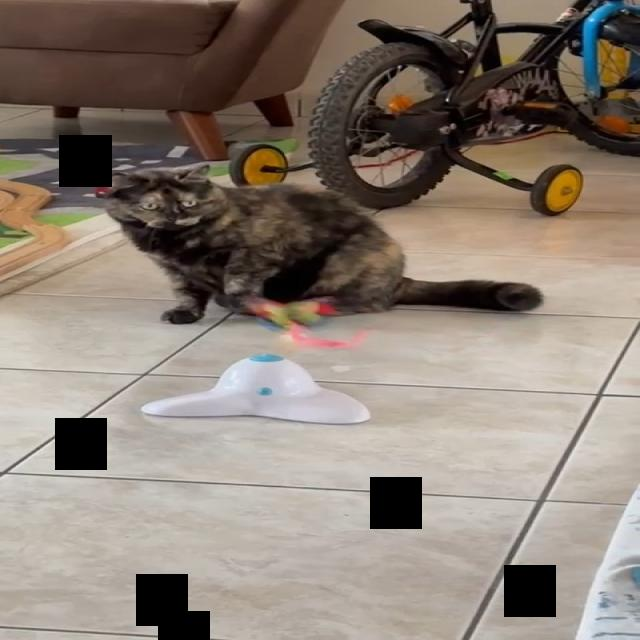authorized: (95, 162, 544, 324)
